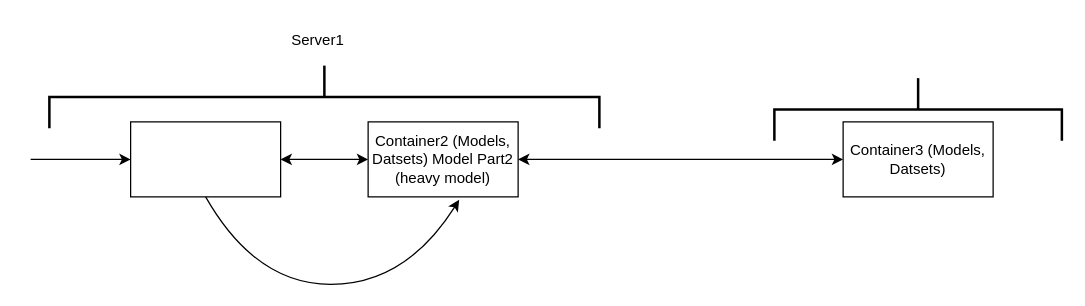
The diagram is 1085 pixels wide and 306 high, and some of its shapes have lost their labels. The shapes that lost their labels are listed below. From the top down, each one's centre as x and y in pixels, then its label:
At pixel 917 108: "Server2".
At pixel 205 159: "Container1 (Models (CV) ,Quantziation, Datasets) , Model Part 1 (1MB)".
